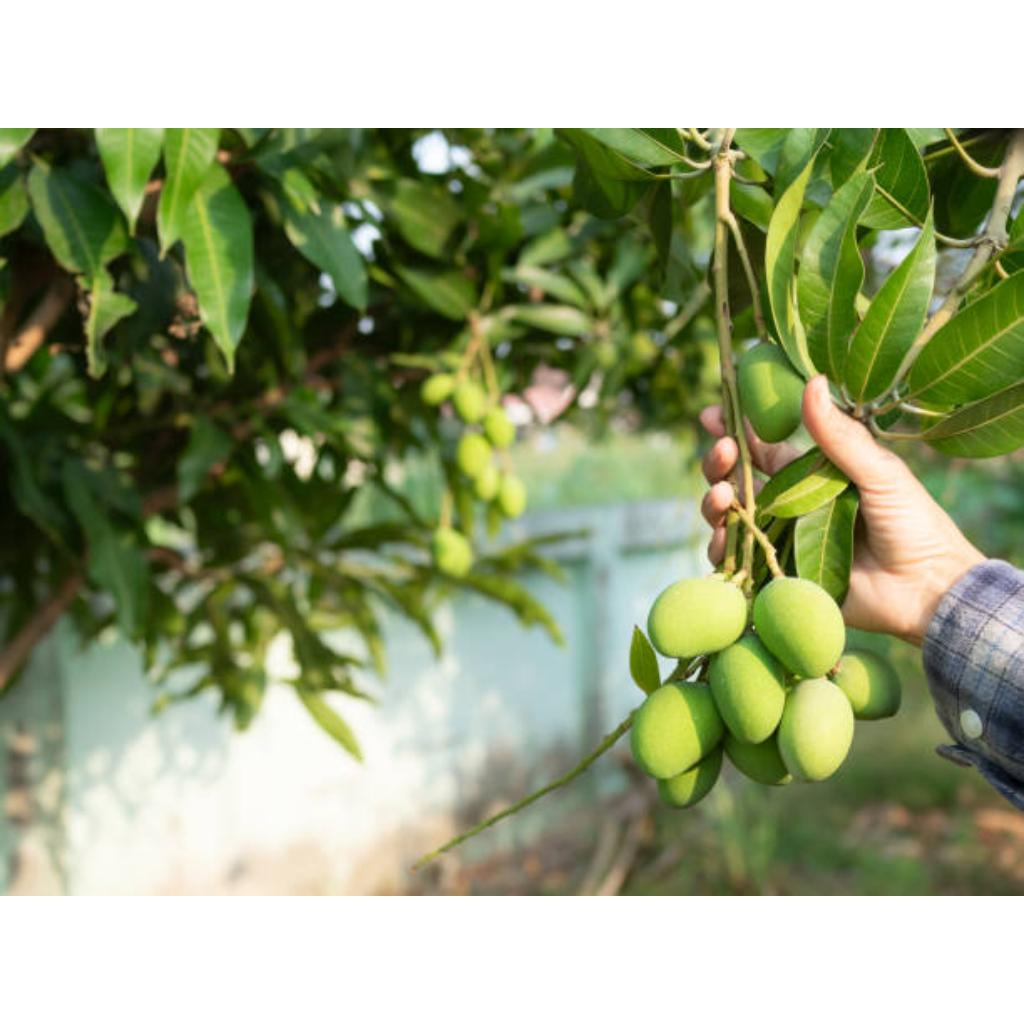mango: (754, 578, 842, 678), (634, 682, 724, 779), (710, 634, 786, 743), (648, 578, 748, 658), (778, 678, 854, 781), (738, 342, 804, 442), (832, 650, 900, 720)
